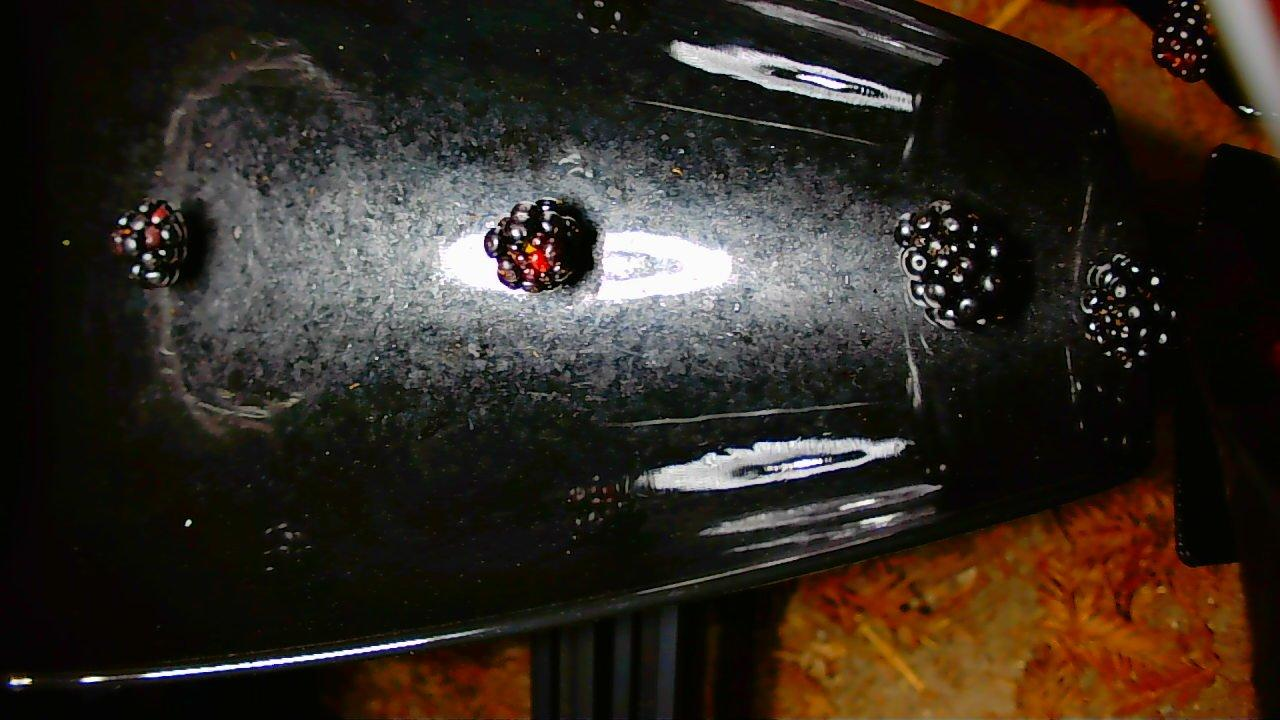berry: (893, 200, 1008, 328), (1080, 254, 1175, 367), (484, 198, 589, 292), (110, 198, 187, 288), (1153, 0, 1213, 81)
